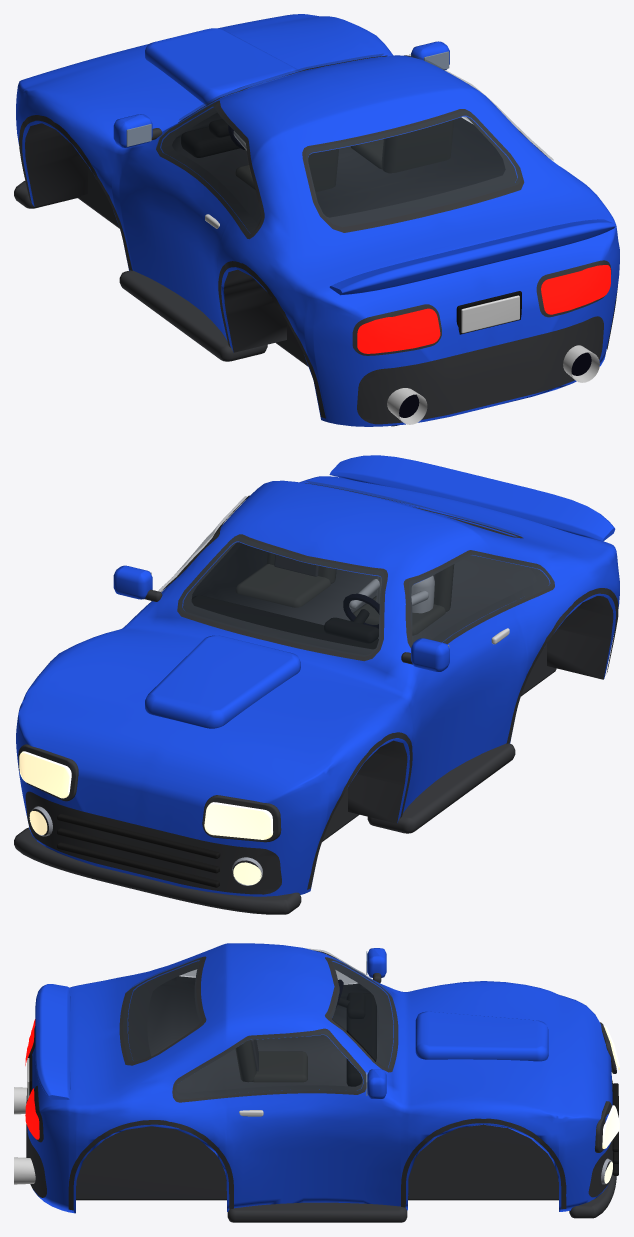
File: car_muscle.glb
3 renders of one model, top to bottom at view 1: azimuth 30°, elevation 25°; view 2: azimuth 150°, elevation 25°; view 3: azimuth 270°, elevation 25°, orthographic. The views are drawn at different scales.
Visible parts, largest first — view 1: body_q, detail_q; view 2: body_q, detail_q; view 3: body_q, detail_q.
Part boxes in pixels (box(x1,y1,x2,y2)): body_q: box(14, 14, 619, 426); detail_q: box(126, 51, 599, 424); body_q: box(14, 455, 619, 914); detail_q: box(29, 552, 509, 887); body_q: box(25, 943, 619, 1222); detail_q: box(14, 951, 618, 1184).
Bounding box in the file's own units: 2.33 × 1.54 × 4.38.
